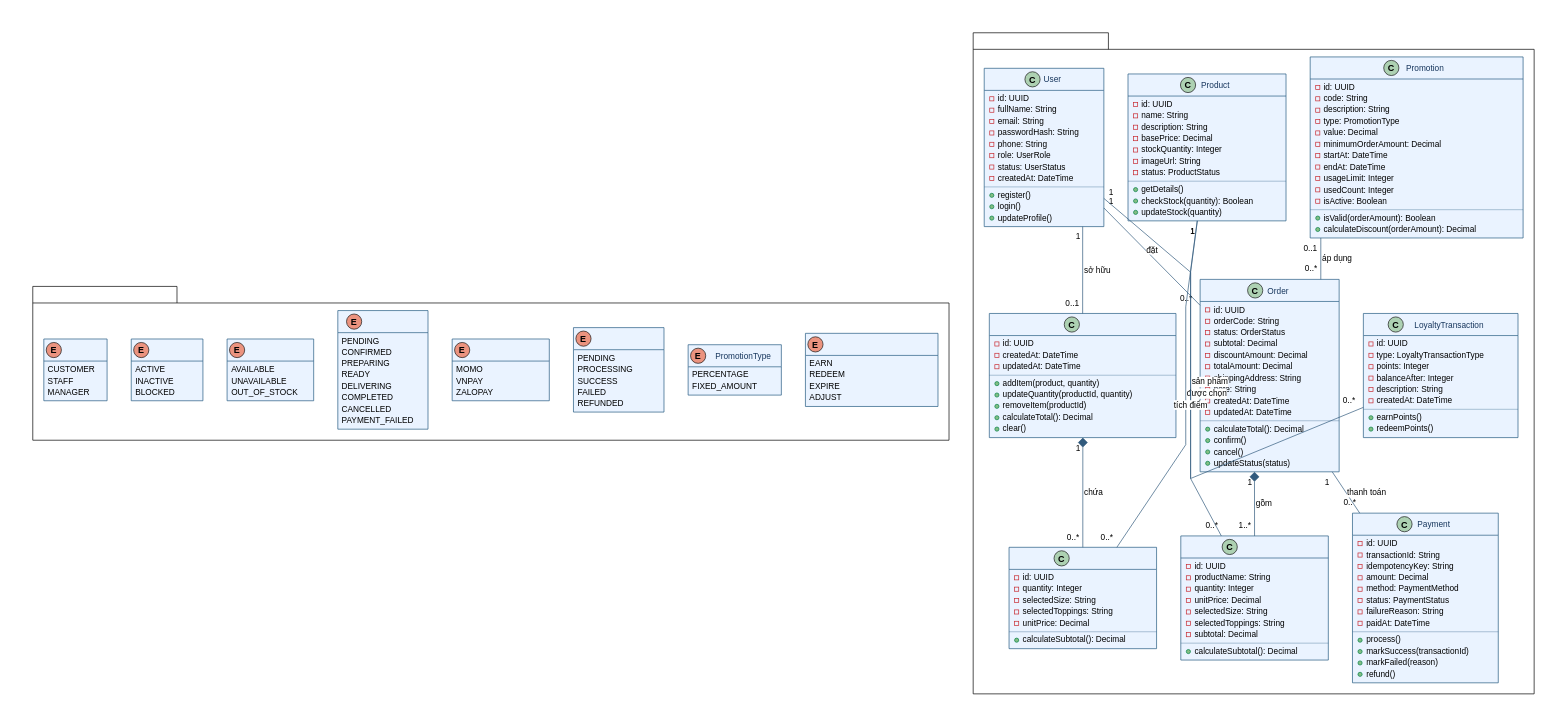
Image size: 1546x706. Some labels were removed from this diagram. Here are the shapes that lost their labels. From the top down, the box of each, then its label:
(43, 338, 107, 401): UserRole
(131, 338, 203, 401): UserStatus
(226, 338, 314, 401): ProductStatus
(337, 310, 428, 429): OrderStatus
(32, 286, 949, 440): Enumerations - Các kiểu liệt kê
(451, 338, 549, 401): PaymentMethod
(573, 327, 664, 412): PaymentStatus
(805, 333, 938, 406): LoyaltyTransactionType
(989, 313, 1176, 438): Cart
(972, 32, 1534, 694): Core Domain - Lớp nghiệp vụ
(1008, 547, 1157, 649): CartItem
(1180, 535, 1328, 660): OrderItem
